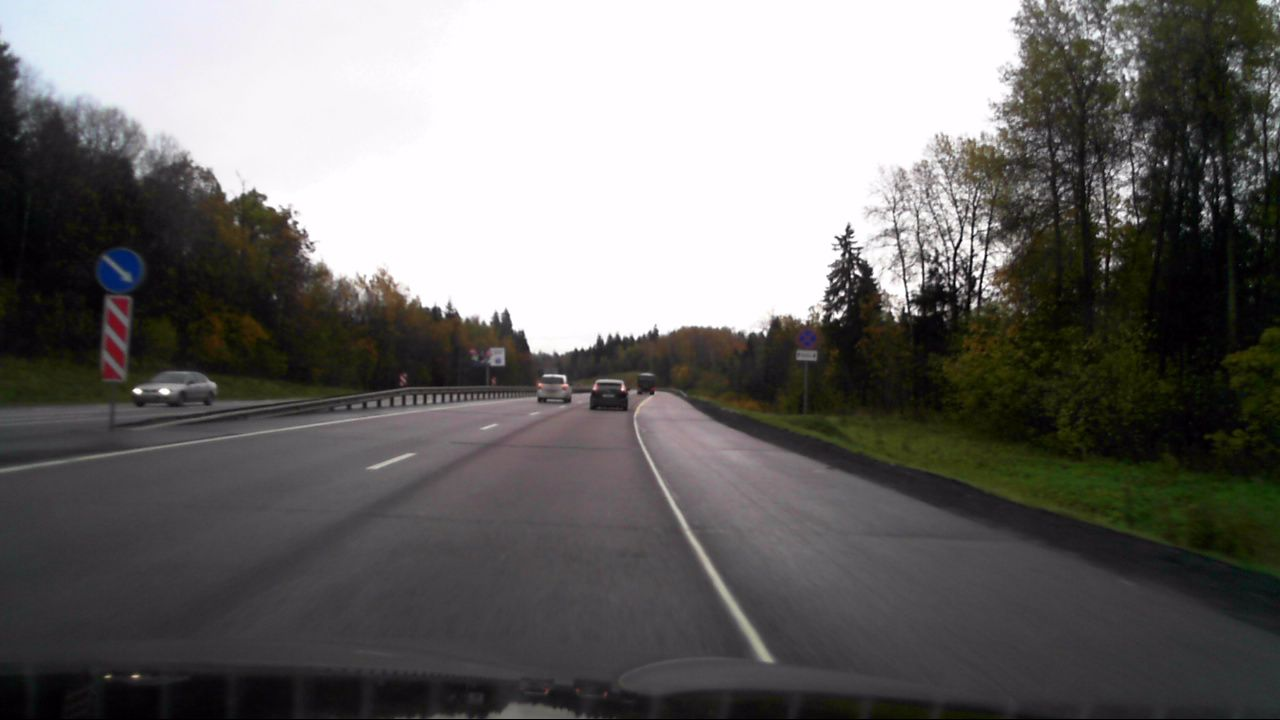No Parking: (797, 329, 816, 347)
